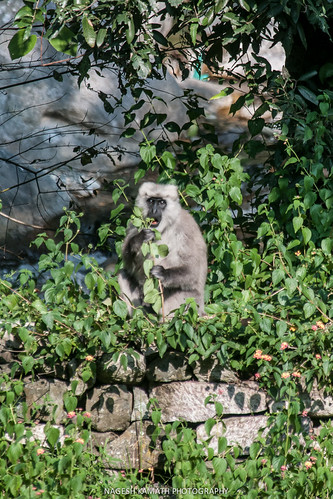monkey: (128, 180, 213, 324)
